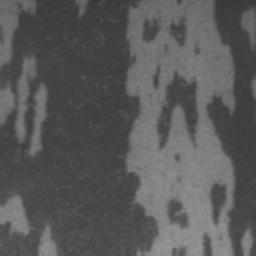Red iron sheet: (0, 0, 157, 256), (207, 0, 256, 256), (158, 72, 198, 147), (211, 184, 226, 222), (169, 17, 187, 46), (142, 18, 161, 42), (169, 201, 187, 225), (153, 67, 160, 88), (204, 237, 211, 256), (0, 27, 4, 42)
